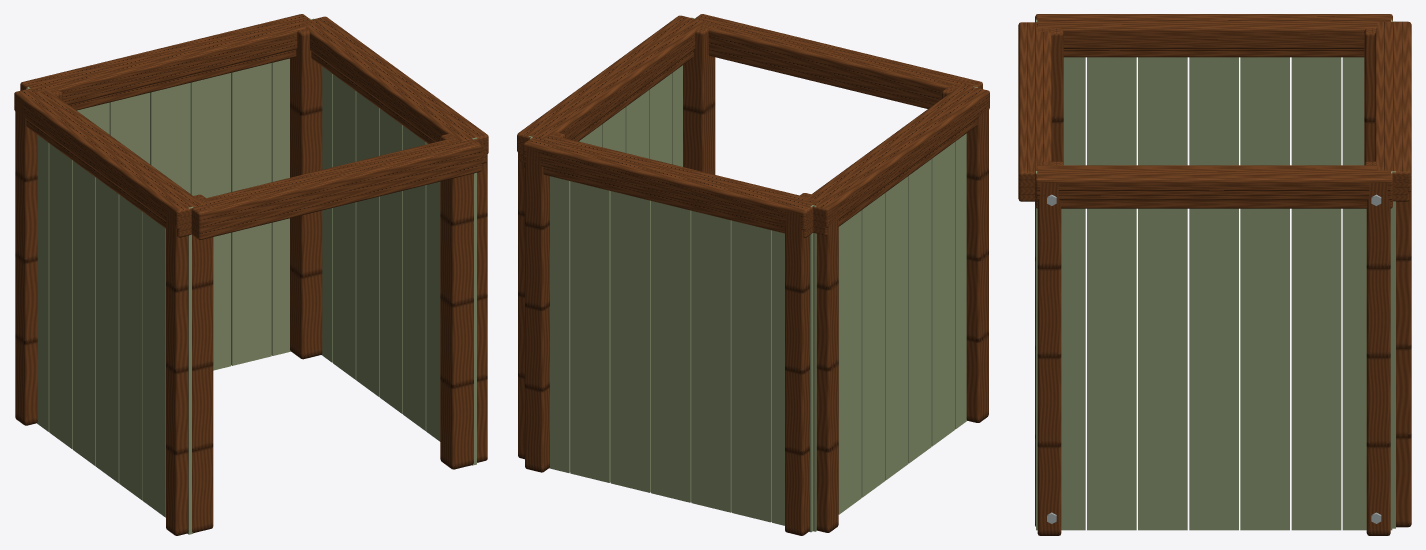
The model's file is prehistoric-survivor-settlement-village-wash-screen-4f31eb07__23204.glb.
The picture shows the model from 3 angles, left to right: view 1: azimuth 30°, elevation 25°; view 2: azimuth 150°, elevation 25°; view 3: azimuth 270°, elevation 25°; orthographic projection. The views are drawn at different scales.
Visible parts, largest first — view 1: village-wash-screen; view 2: village-wash-screen; view 3: village-wash-screen.
Part boxes in pixels (<box>): village-wash-screen: <box>14,14,488,535</box>; village-wash-screen: <box>517,14,989,535</box>; village-wash-screen: <box>1018,14,1411,535</box>.
Bounding box in the file's own units: 1.67 × 1.65 × 1.65.
Materials: 3 (1 with a texture image).
